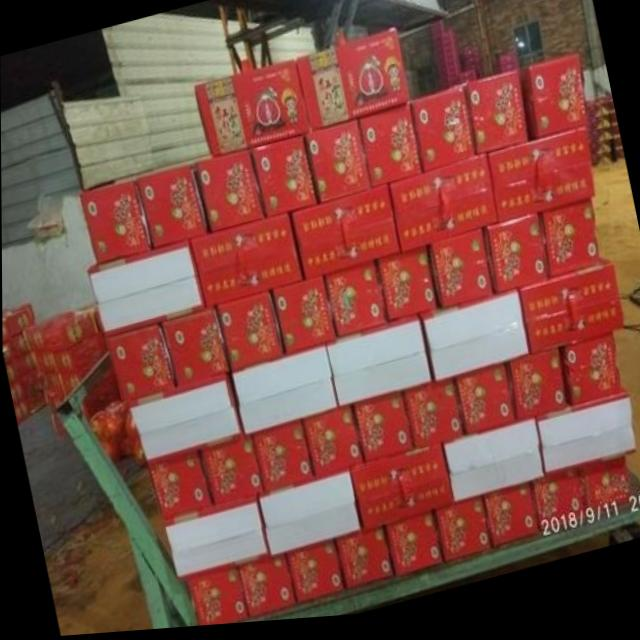box: (295, 33, 411, 136), (89, 242, 205, 340), (194, 64, 311, 160), (388, 161, 499, 260), (190, 215, 304, 311), (519, 265, 626, 363), (487, 134, 595, 230), (291, 190, 401, 282), (129, 380, 243, 467), (419, 300, 530, 389), (231, 350, 338, 441), (326, 326, 432, 415), (351, 450, 454, 536), (440, 426, 544, 511), (536, 398, 637, 484), (258, 476, 360, 559), (165, 501, 268, 581), (134, 166, 209, 251), (518, 61, 589, 149), (104, 324, 177, 409), (194, 151, 266, 235), (214, 294, 286, 378), (160, 309, 230, 395), (429, 235, 497, 321), (80, 183, 151, 265), (305, 124, 373, 209), (409, 92, 476, 177), (251, 138, 319, 221), (484, 221, 551, 305), (322, 266, 390, 347), (359, 108, 423, 194), (465, 78, 529, 164), (272, 278, 338, 360), (375, 253, 441, 333), (541, 206, 603, 289), (197, 439, 264, 513), (147, 454, 212, 526), (334, 530, 399, 602), (432, 502, 497, 574), (251, 426, 314, 500), (302, 411, 365, 485), (285, 543, 350, 614), (384, 518, 449, 589), (481, 490, 546, 561), (403, 384, 467, 456), (507, 356, 571, 428), (236, 553, 300, 625), (352, 398, 415, 471), (456, 370, 519, 443), (561, 339, 624, 411), (184, 566, 249, 629), (533, 476, 588, 539), (579, 464, 632, 527)
